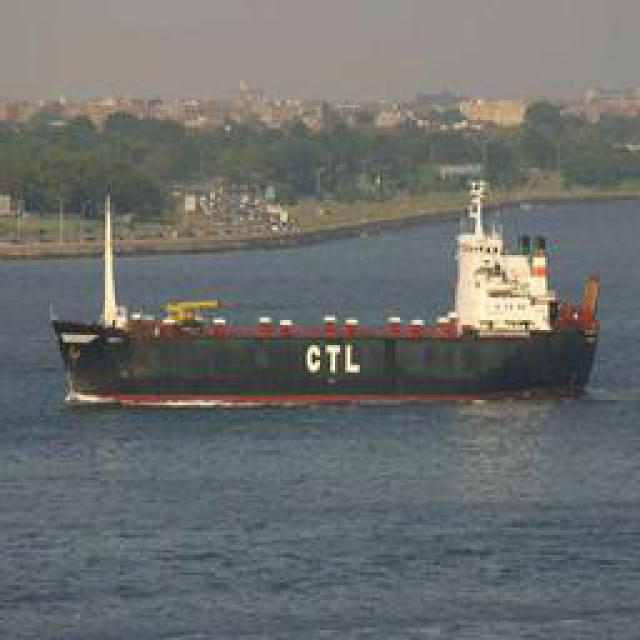Ship: (49, 174, 612, 414)
